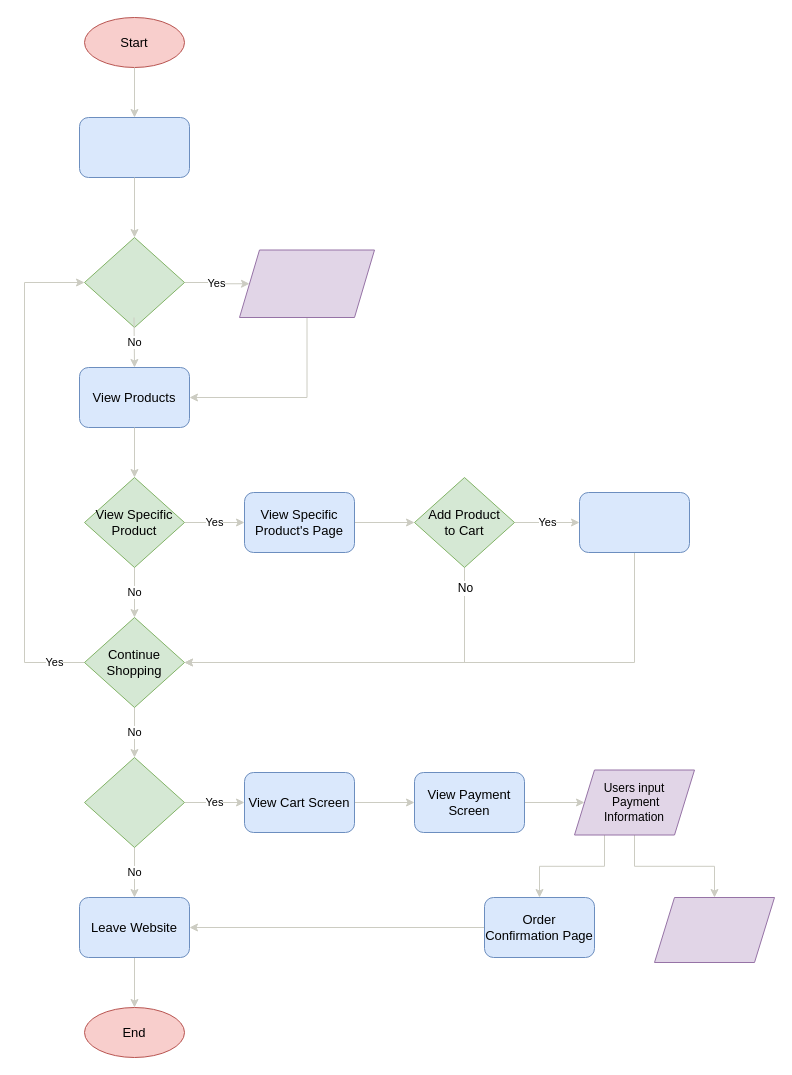
Some shapes in this 792 by 1075 pixel diagram are drawn without their labels. Here are the shapes that lost their labels. From the top down, the centre of each, then its label:
At [134,147]: "User enters site".
At [134,282]: "Search for a Product".
At [306,283]: "Read & Search Inputted Product Information".
At [634,522]: "Confirmation Product has been added to Cart".
At [134,802]: "Checkout".
At [714,929]: "Send out Confirmation Email".
